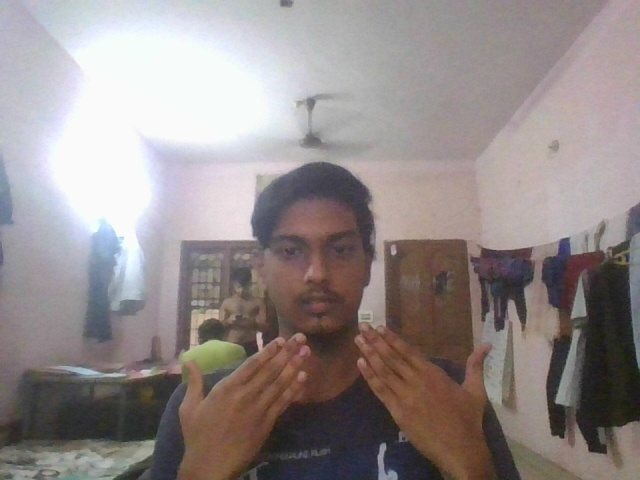thankyou: (177, 323, 496, 457)
